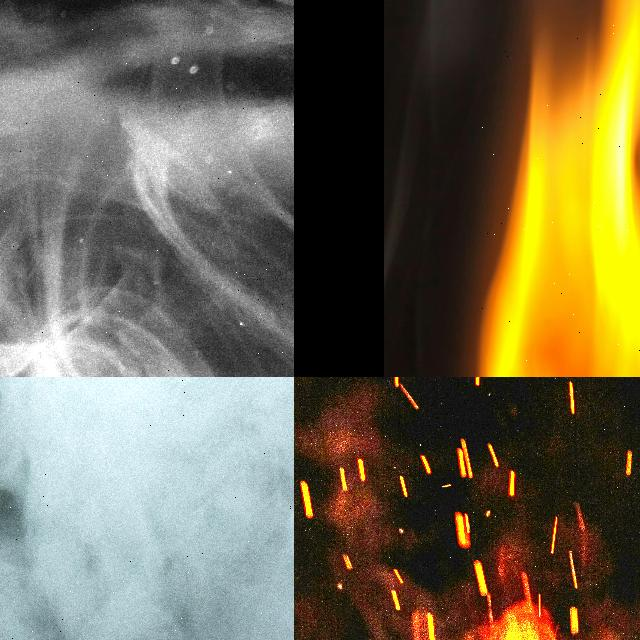fire: (481, 11, 640, 377)
smoke: (0, 13, 294, 377), (0, 377, 294, 640)
